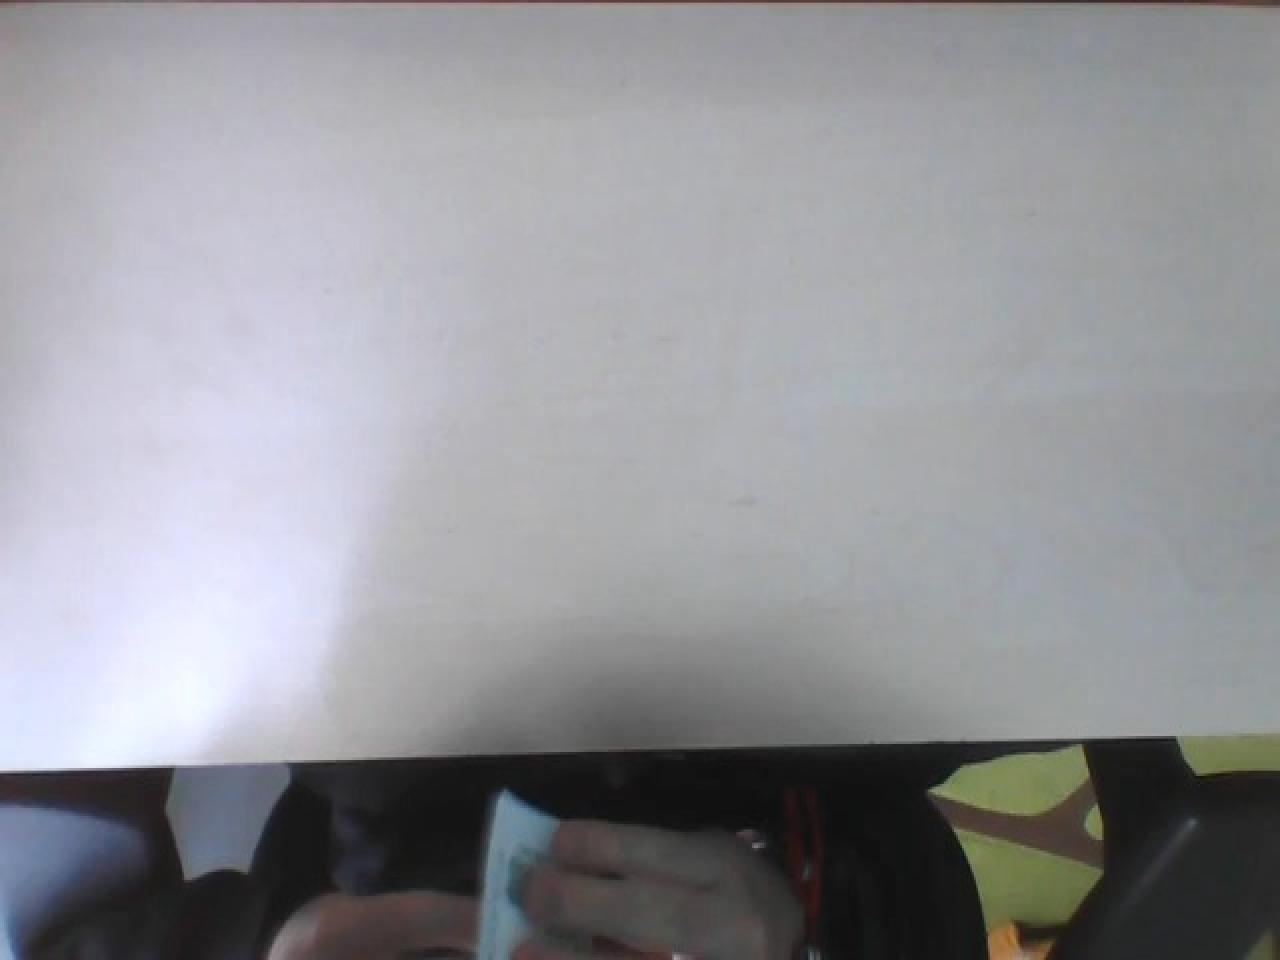100leva: (474, 773, 990, 960)
